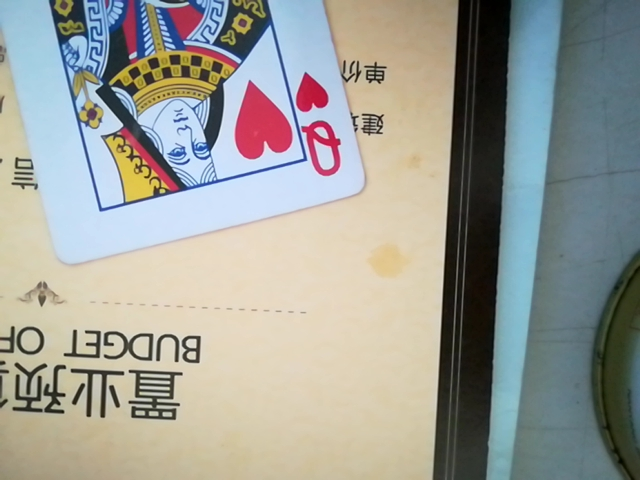hx q: (4, 1, 373, 264)
